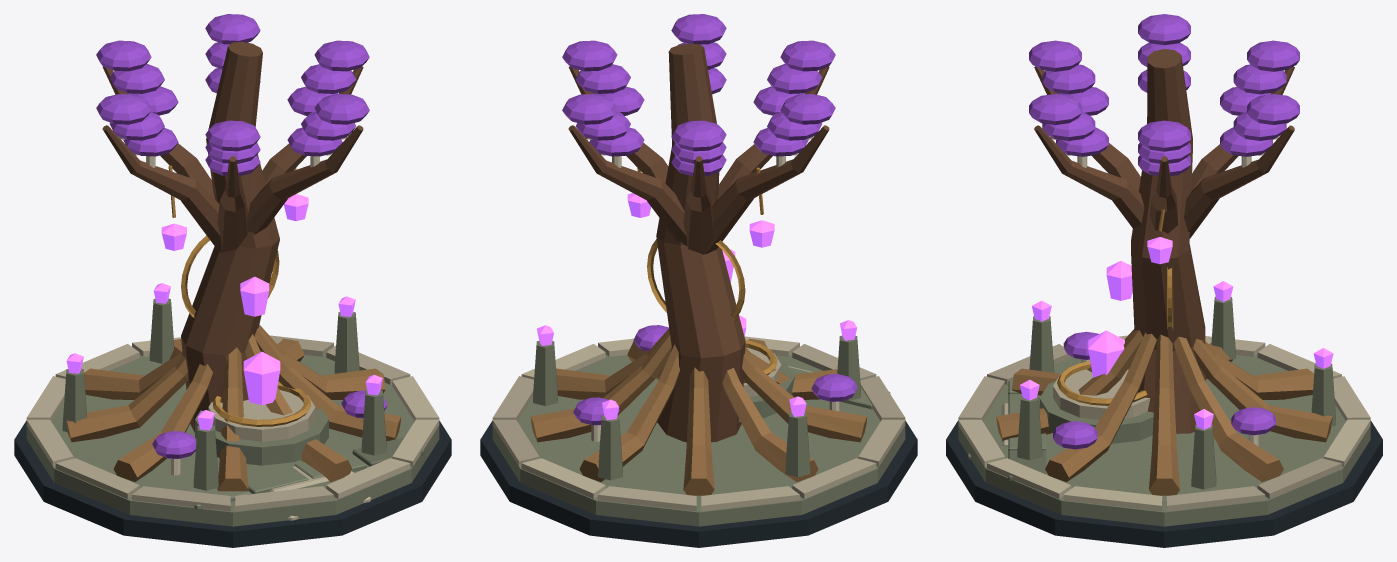
Rendered from nature__praga__L20.glb.
3 renders of one model, left to right at view 1: azimuth 30°, elevation 25°; view 2: azimuth 150°, elevation 25°; view 3: azimuth 270°, elevation 25°, orthographic.
Parts seen in each view (by area): view 1: structure, weapon; view 2: structure; view 3: structure, weapon.
Boxes of the visible parts, bbox=[...] form: structure: bbox=[14, 14, 451, 547]; weapon: bbox=[243, 351, 280, 405]; structure: bbox=[480, 14, 917, 547]; structure: bbox=[946, 14, 1382, 547]; weapon: bbox=[1088, 330, 1124, 377].
Bounding box in the file's own units: 0.8624 × 0.8831 × 0.8624.
